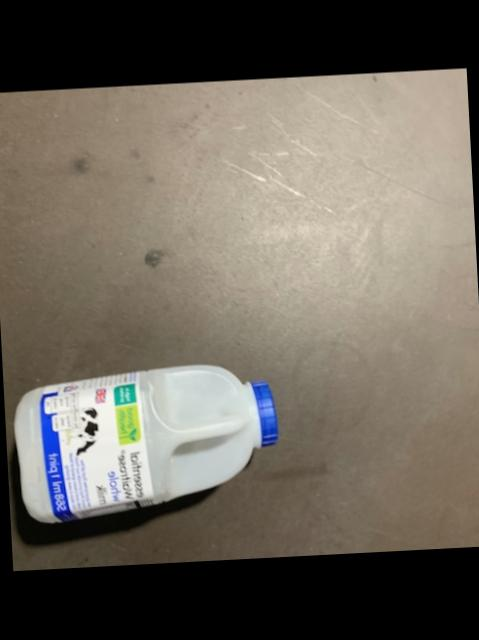plastic: (13, 365, 274, 521)
